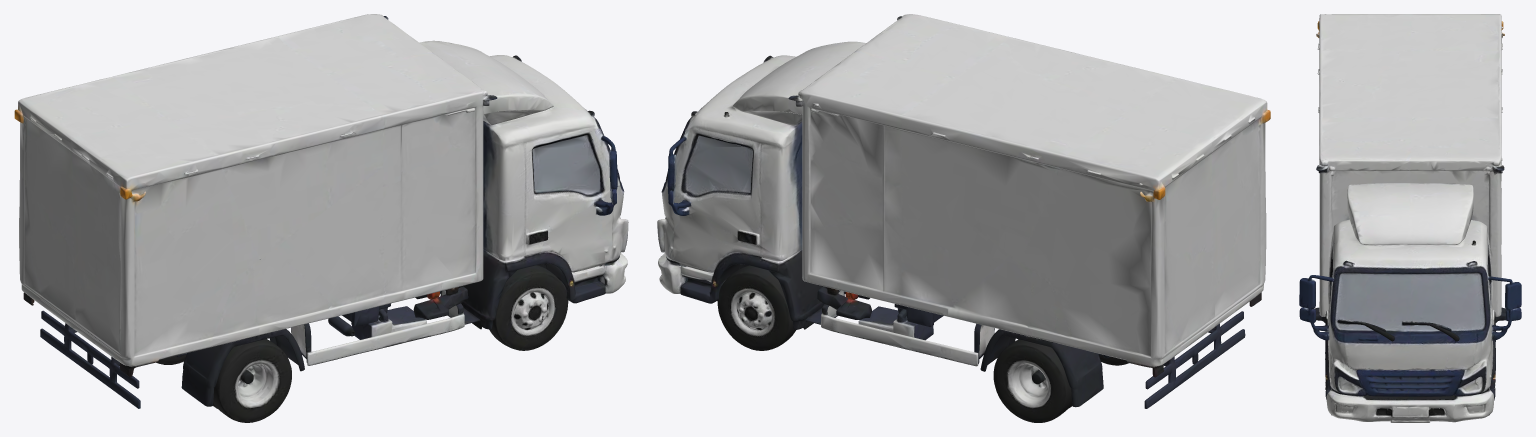
File: camion.glb
3 views of the same model, side by side, from view 1: azimuth 30°, elevation 25°; view 2: azimuth 150°, elevation 25°; view 3: azimuth 270°, elevation 25° (orthographic). The views are drawn at different scales.
Visible parts, largest first — view 1: tripo_node_fa64db42-cbc5-46a5-8ce0-d31350a8e8c0; view 2: tripo_node_fa64db42-cbc5-46a5-8ce0-d31350a8e8c0; view 3: tripo_node_fa64db42-cbc5-46a5-8ce0-d31350a8e8c0.
Part boxes in pixels (left/top/right/bottom): tripo_node_fa64db42-cbc5-46a5-8ce0-d31350a8e8c0: left=14, top=14, right=628, bottom=422; tripo_node_fa64db42-cbc5-46a5-8ce0-d31350a8e8c0: left=657, top=14, right=1270, bottom=422; tripo_node_fa64db42-cbc5-46a5-8ce0-d31350a8e8c0: left=1299, top=14, right=1521, bottom=422.
Bounding box in the file's own units: 1 × 0.5108 × 0.4428.
1 material, 1 textured.
